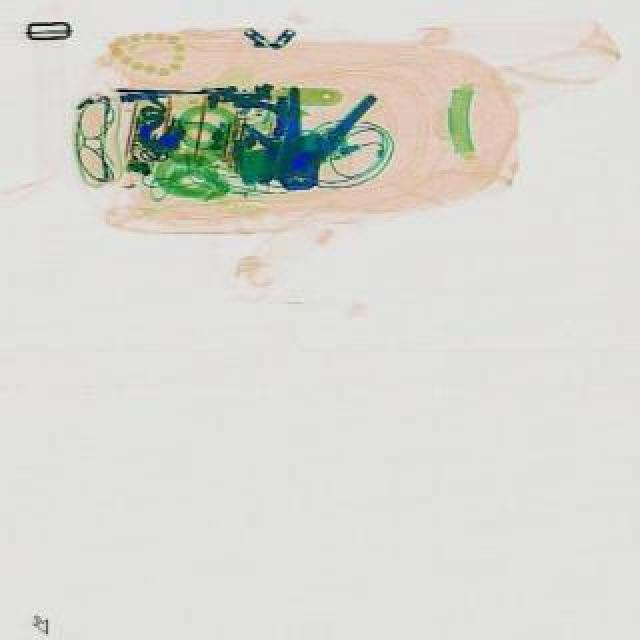wrench: (264, 76, 382, 204)
